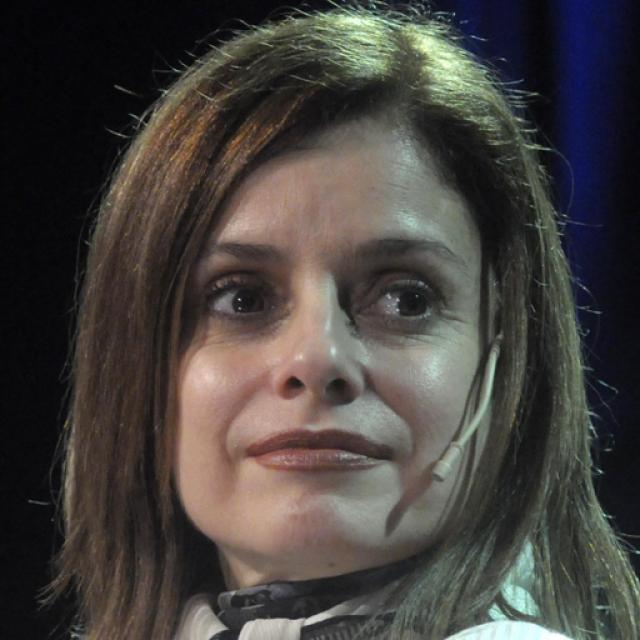content: (162, 112, 486, 582)
